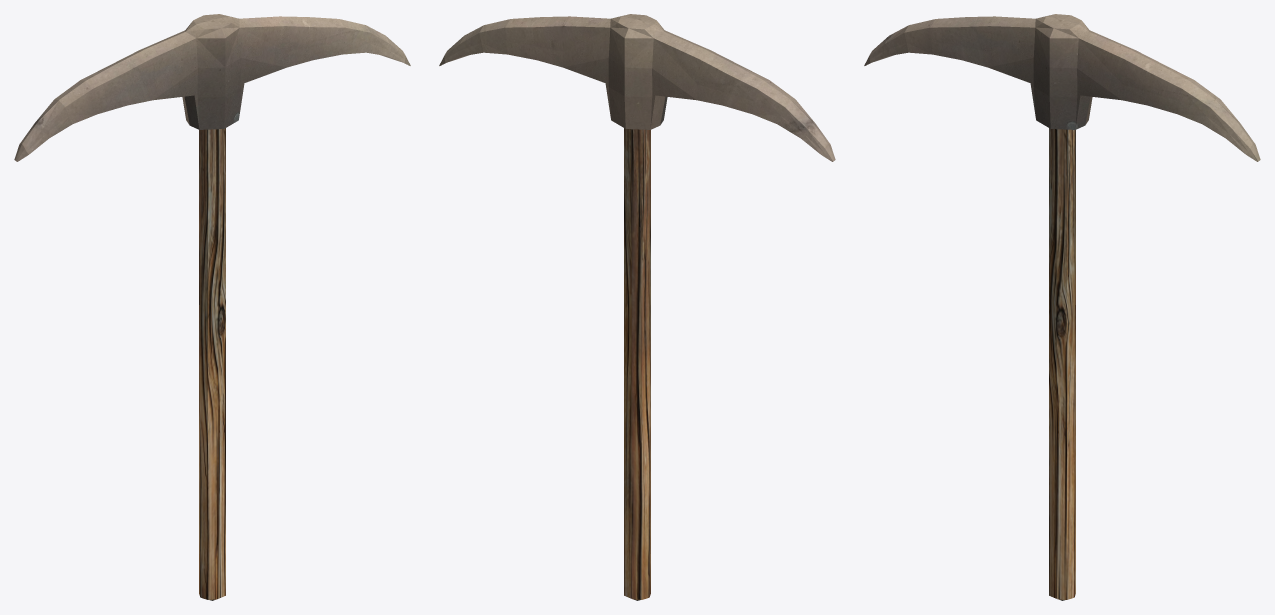
The model's file is pioche.obj.
The picture shows the model from 3 angles, left to right: view 1: azimuth 30°, elevation 25°; view 2: azimuth 150°, elevation 25°; view 3: azimuth 330°, elevation 25°; orthographic projection.
Visible parts, largest first — view 1: Cube; view 2: Cube; view 3: Cube.
Boxes of the visible parts, x1,y1,x2,y2 form: Cube: (14, 14, 410, 600); Cube: (439, 14, 835, 600); Cube: (864, 14, 1260, 600).
Bounding box in the file's own units: 21.2 × 29.85 × 2.39.
Materials: 1 (1 with a texture image).
